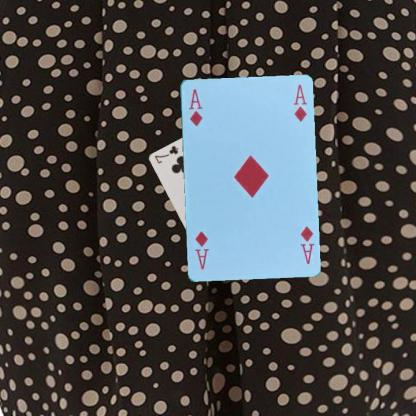Ad: (186, 86, 204, 128), (297, 224, 315, 265)
